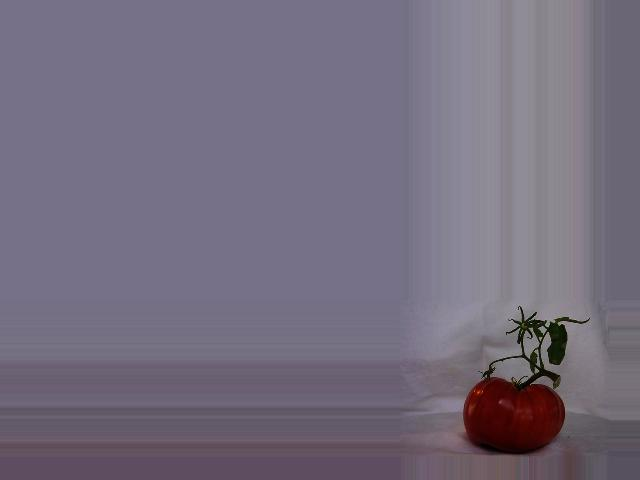tomato: (462, 377, 565, 453)
